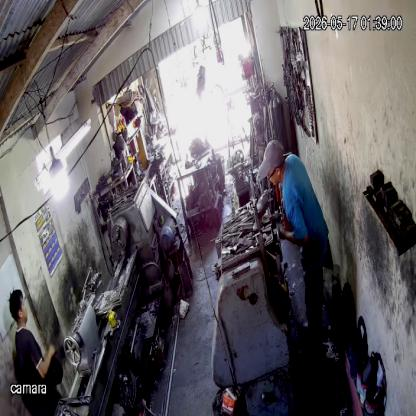lentes: (267, 165, 281, 183)
